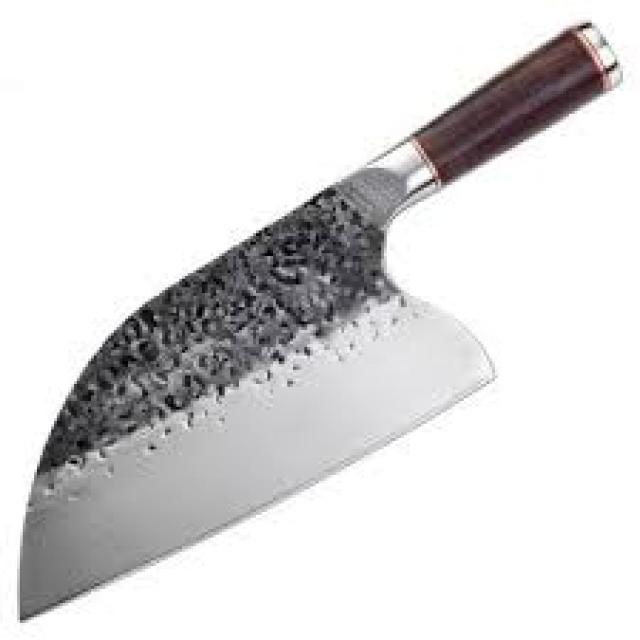Knife: (17, 23, 617, 620)
